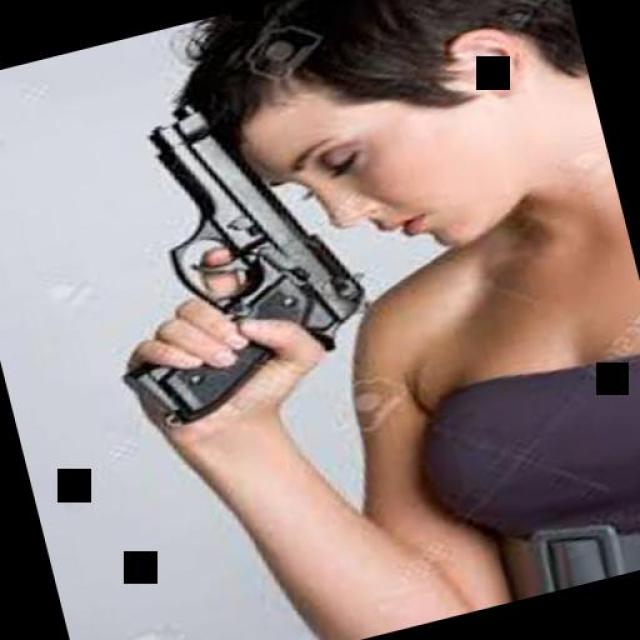gun: (61, 71, 384, 434)
